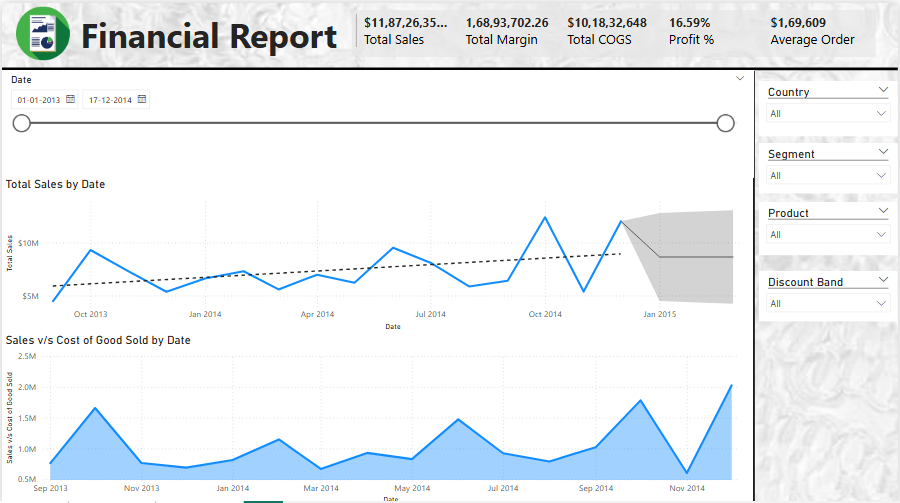

The page's visual inventory and layout, read from the dashboard file:
{"tool":"powerbi","page":{"name":"Report 2","canvas":[1280,720],"ordinal":2},"visuals":[{"type":"textbox","box":[106.8,7.2,393.9,89.5],"z":0},{"type":"image","box":[0,0,116.6,86.8],"z":1000},{"type":"multiRowCard","fields":{"Values":["All Measure.Total sales","All Measure.Total Margin","All Measure.Total COGS","All Measure.Profit %","All Measure.Average Order"]},"box":[500.6,10,748.1,66.8],"z":2000},{"type":"shape","box":[0,37.5,1279.7,114],"z":3000},{"type":"slicer","fields":{"Values":["financials.Country"]},"box":[1082.1,111.1,197.7,79.4],"z":4000},{"type":"slicer","fields":{"Values":["financials.Segment"]},"box":[1082.1,200.5,197.7,72.1],"z":5000},{"type":"slicer","fields":{"Values":["financials.Product"]},"box":[1082.1,284.2,197.7,76.5],"z":6000},{"type":"slicer","fields":{"Values":["financials.Discount Band"]},"box":[1082.1,382.3,197.7,72.1],"z":7000},{"type":"shape","box":[1020,96.7,106.8,623.3],"z":8000},{"type":"areaChart","fields":{"Category":["Date.Date"],"Y":["All Measure.Sales v/s Cost of Good Sold"]},"box":[0,471.8,1073.4,248.2],"z":9000},{"type":"lineChart","fields":{"Category":["Date.Date"],"Y":["All Measure.Total Sales"]},"box":[0,248.2,1073.4,223.6],"z":10000},{"type":"slicer","fields":{"Values":["Date.Date"]},"box":[0,95.2,1073.4,152.9],"z":11000}]}

Visuals, with their boxes on the page's 1280x720 design canvas (x1, y1, x2, y2). These are canvas units, not pixel positions in the 900x503 screenshot, which may show the page scaled, cropped or inside an application window:
textbox: x1=107, y1=7, x2=501, y2=97
image: x1=0, y1=0, x2=117, y2=87
multiRowCard - All Measure.Total sales x All Measure.Total Margin: x1=501, y1=10, x2=1249, y2=77
shape: x1=0, y1=38, x2=1280, y2=152
slicer - financials.Country: x1=1082, y1=111, x2=1280, y2=190
slicer - financials.Segment: x1=1082, y1=200, x2=1280, y2=273
slicer - financials.Product: x1=1082, y1=284, x2=1280, y2=361
slicer - financials.Discount Band: x1=1082, y1=382, x2=1280, y2=454
shape: x1=1020, y1=97, x2=1127, y2=720
areaChart - Date.Date x All Measure.Sales v/s Cost of Good Sold: x1=0, y1=472, x2=1073, y2=720
lineChart - Date.Date x All Measure.Total Sales: x1=0, y1=248, x2=1073, y2=472
slicer - Date.Date: x1=0, y1=95, x2=1073, y2=248
